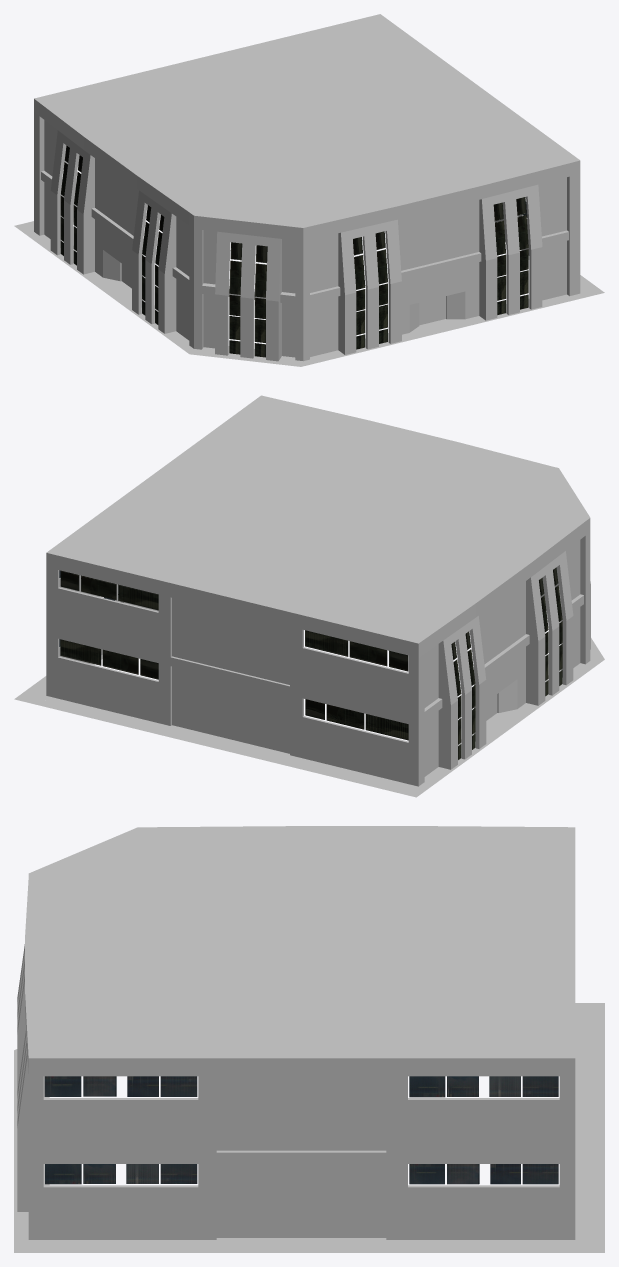
3 renders of one model, top to bottom at view 1: azimuth 30°, elevation 25°; view 2: azimuth 150°, elevation 25°; view 3: azimuth 270°, elevation 25°, orthographic. The views are drawn at different scales.
Visible parts, largest first — view 1: EB-020; view 2: EB-020; view 3: EB-020.
Boxes of the visible parts, <box> form: EB-020: <box>14,14,604,366</box>; EB-020: <box>14,395,604,797</box>; EB-020: <box>14,826,604,1252</box>.
Size of what is drawn, in the model's own units: 36 by 12.22 by 36.
